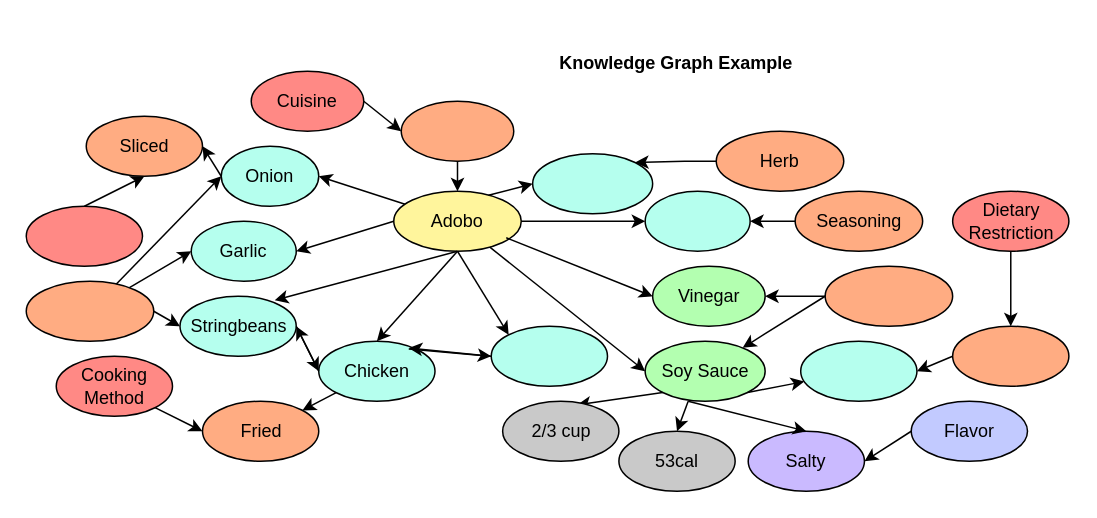
Some shapes in this 1097 by 518 pixel diagram are drawn without their labels. Each missing label, with the centre of its shape:
"Allergen" goes at (1010,355).
"Bay Leaves" goes at (592,183).
"Condiment" goes at (888,295).
"Filipino" goes at (457,130).
"Pepper" goes at (697,220).
"Pork" goes at (549,355).
"Prep Method" goes at (83,235).
"Soy" goes at (858,370).
"Vegetable" goes at (89,310).
